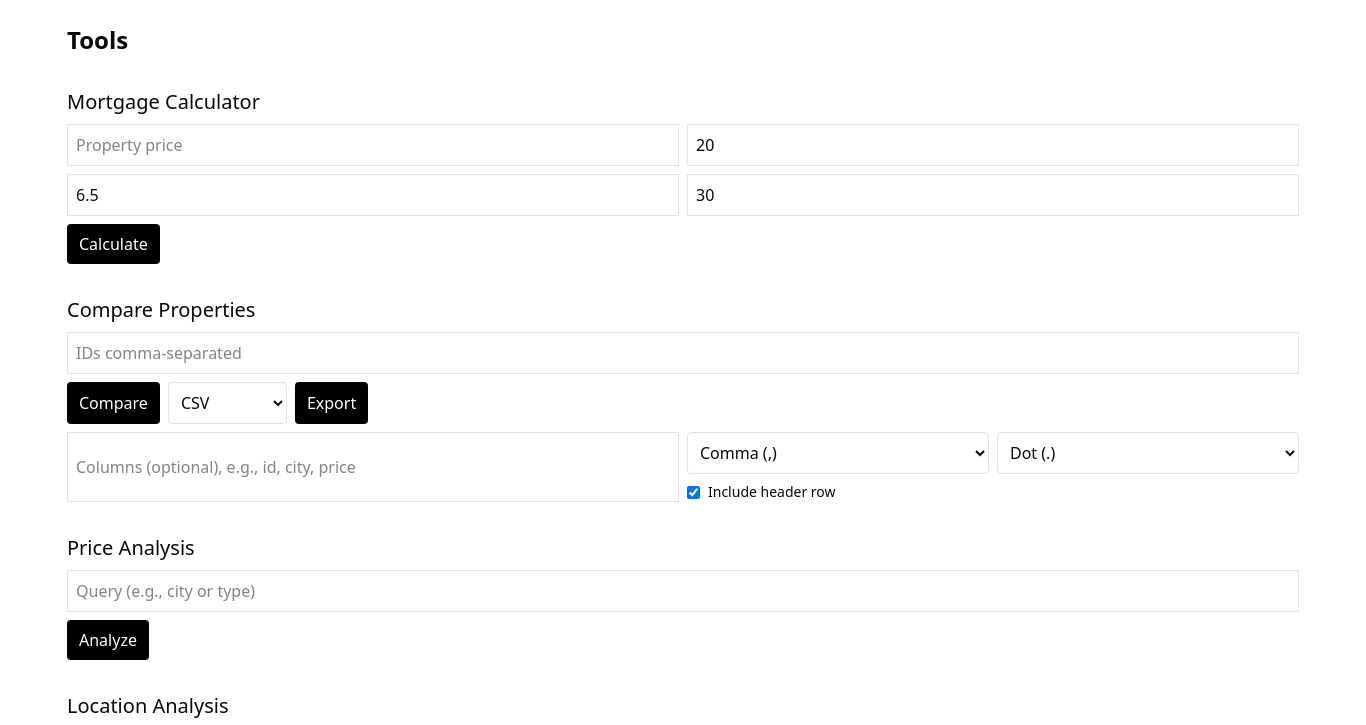
it: ToolsPage › CompareSection › compares properties and shows summary
This screenshot has width=1366, height=725.
Type "p1, p2, p3" into the field with placeholder "IDs comma-separated". click: point(683, 353)
box: [67, 332, 1299, 374]
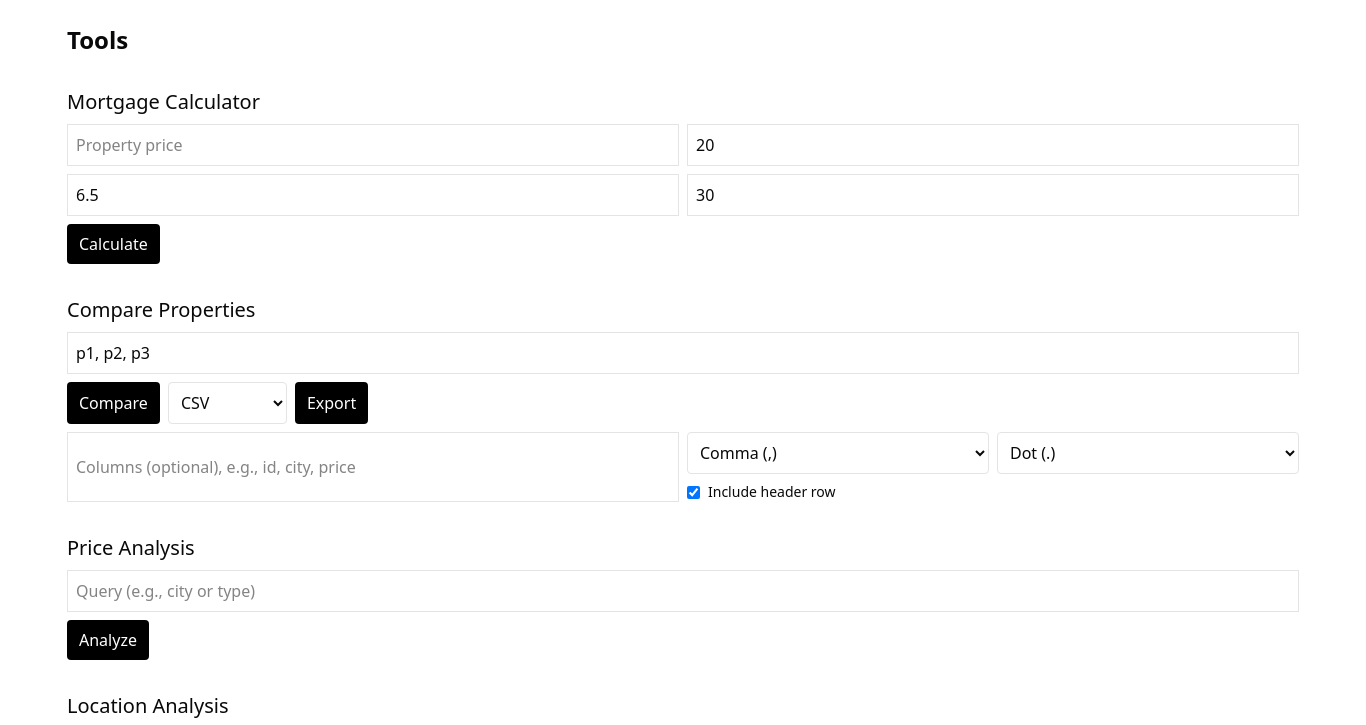
Click the button "Compare". click: point(113, 403)
box: [67, 382, 160, 424]
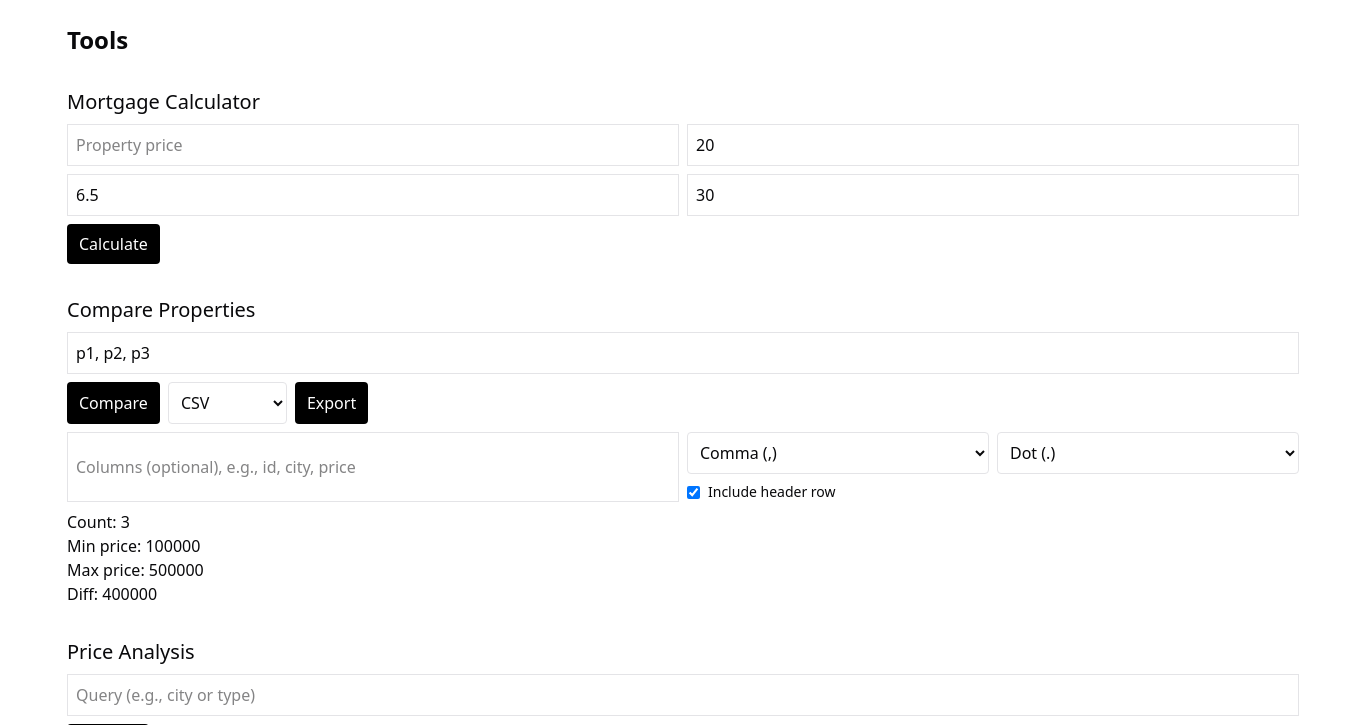
Now the text "Count: 3" is shown, box [67, 511, 130, 533]
Now the text "Min price: 100000" is shown, box [67, 535, 200, 557]
